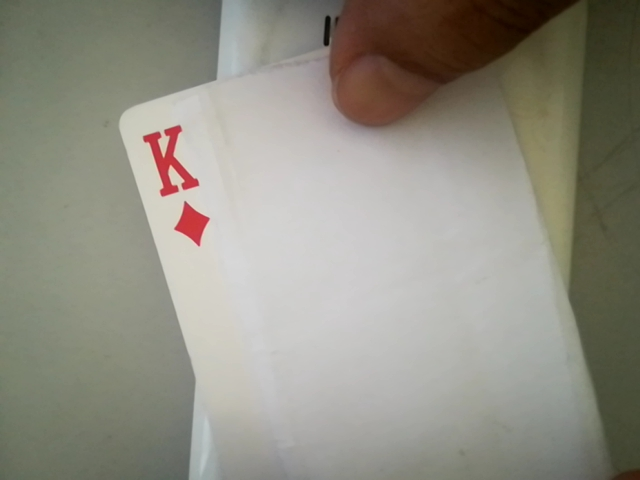fk k: (134, 117, 218, 249)
